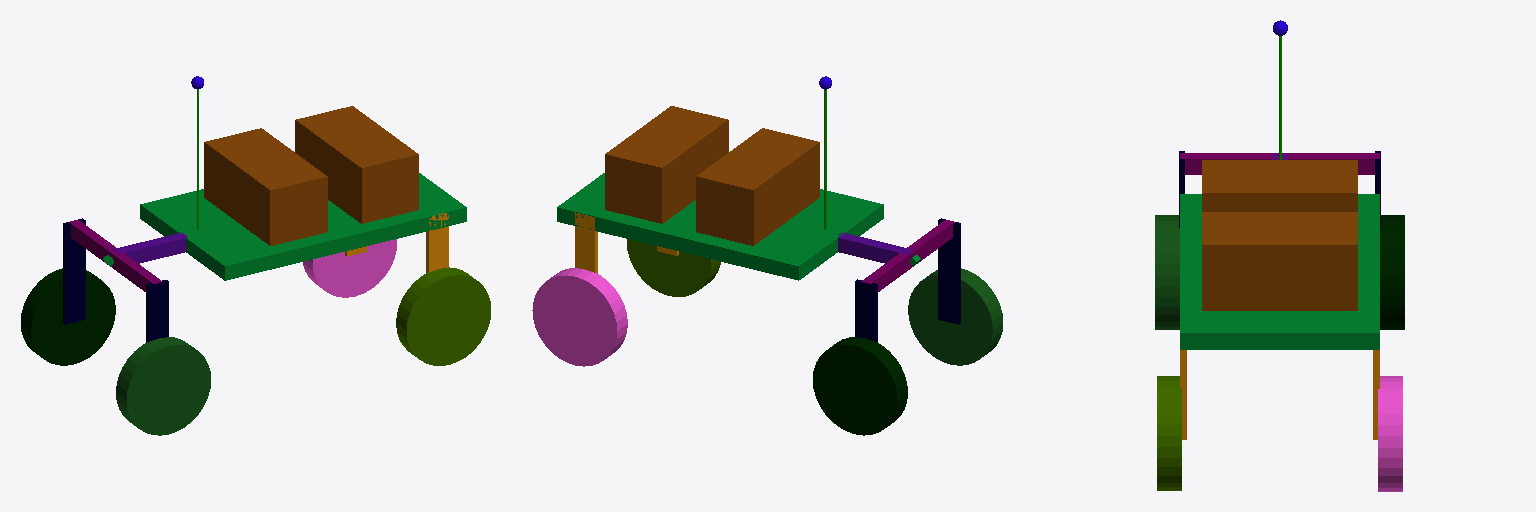
The robot description file, URDF, robot "my_robot":
<robot name="my_robot">
  <material name="black">
  <color rgba="0.0 0.0 0.0 1.0"/>
</material>
<material name="blue">
  <color rgba="0.0 0.0 0.8 1.0"/>
</material>
  <link name="fito_world"></link>
  <joint name="base_joint" type="fixed">
    <parent link="fito_world" />
    <child link="base_link" />
    <origin xyz="0 0 0" rpy="0 0 0" />
  </joint>
<!-- <link name="base_footprint"></link>

<joint name="base_footprint_joint" type="fixed">
    <parent link="fito_world" />
    <child link="base_footprint" />
    <origin xyz="0 0 0" rpy="0 0 0" />
  </joint> -->
<!-- Добавьте этот код в раздел <robot> перед закрывающим тегом </robot> -->


<!-- Добавьте этот код перед закрывающим тегом </robot> -->

<!-- Depth Camera Link and Joint -->

  <link name="base_link">
    <visual>
      <origin xyz="0 0 0" rpy="0 0 0" />
      <geometry>
        <box size="2.11 1.28 0.12" />
      </geometry>
      <material name="base_link-material">
        <color rgba="0.02732089163382382 0.5394794890033748 0.20863687013464577 1" />
      </material>
    </visual>
    <collision>
      <origin xyz="0 0 0" rpy="0 0 0" />
      <geometry>
        <box size="2.11 1.28 0.12" />
      </geometry>
    </collision>
    <inertial>
      <origin xyz="0 0 0" rpy="0 0 0" />
      <mass value="400" />
      <inertia ixx="55.1" ixy="0" ixz="0" iyy="148.9" iyz="0" izz="203" />
    </inertial>

  </link>

  <joint name="front_wheels_base_to_depth_camera" type="fixed">
  <parent link="front_wheels_base" />
  <child link="depth_camera_link" />
  <origin xyz="-0.06 0 0" rpy="1.0 3.14 -1.57" />  <!-- Adjust position as needed -->
</joint>

<link name="depth_camera_link">
  <visual>
    <origin xyz="0 0 0" rpy="0 0 0"/>
    <geometry>
      <box size="0.07 0.05 0.05"/>
    </geometry>
    <material name="blue">
      <color rgba="0.02732089163382382 0.5394794890033748 0.20863687013464577 1" />
    </material>
  </visual>
  <collision>
    <origin xyz="0 0 0" rpy="0 0 0"/>
    <geometry>
      <box size="0.07 0.05 0.05"/>
    </geometry>
  </collision>
  <inertial>
    <mass value="0.1"/>
    <inertia ixx="0.0001" ixy="0" ixz="0" iyy="0.0001" iyz="0" izz="0.0001"/>
  </inertial>
</link>

<!-- Gazebo Depth Camera Plugin -->
<gazebo reference="depth_camera_link">
  <sensor name="rs_front" type="rgbd_camera">
        <pose>0.15 0 0.4 0 -1.57 1.57</pose>
        <always_on>1</always_on>
        <update_rate>10</update_rate>
        <camera>
          <horizontal_fov>1.50098</horizontal_fov>
          <lens>
            <intrinsics>
              <!-- fx = fy = width / ( 2 * tan (hfov / 2 ) ) -->
              <fx>343.159</fx>
              <fy>343.159</fy>
              <!-- cx = ( width - 1 ) / 2 -->
              <cx>319.5</cx>
              <!-- cy = ( height - 1 ) / 2 -->
              <cy>179.5</cy>
              <s>0</s>
            </intrinsics>
          </lens>
          <distortion>
            <k1>0.0</k1>
            <k2>0.0</k2>
            <k3>0.0</k3>
            <p1>0.0</p1>
            <p2>0.0</p2>
            <center>0.5 0.5</center>
          </distortion>
          <image>
            <width>800</width>
            <height>800</height>
            <format>B8G8R8</format>
          </image>
          <clip>
            <near>0.01</near>
            <far>300</far>
          </clip>
          <depth_camera>
            <clip>
              <near>0.1</near>
              <far>10</far>
            </clip>
          </depth_camera>
          <noise>
            <type>gaussian</type>
            <mean>0</mean>
            <stddev>0.007</stddev>
          </noise>
        </camera>
        <gz_frame_id>depth_camera_link</gz_frame_id>
        <topic>rs_front</topic>
        <visualize>true</visualize>
      </sensor>
</gazebo>
  <joint name="base_link_to_wheeling_mech" type="revolute">
    <parent link="base_link" />
    <child link="wheeling_mech" />
    <origin xyz="-1.051211695797214 0 0" rpy="0 0 0" />
    <axis xyz="0 0 1"/>
    <limit effort="3000.0" lower="-0.4" upper="0.4" velocity="0.5"/>  
    <dynamics damping="0.1" friction="0.5"/>
  </joint>
  <link name="wheeling_mech">
    <visual>
      <origin xyz="-0.3 0 0" rpy="0 0 0" />
      <geometry>
        <box size="0.64 0.1 0.12" />
      </geometry>
      <material name="wheeling_mech-material">
        <color rgba="0.3515325994898463 0.07036009568874305 0.5775804404214573 1" />
      </material>
    </visual>
    <collision>
      <origin xyz="-0.3 0 0" rpy="0 0 0" />
      <geometry>
        <box size="0.64 0.1 0.12" />
      </geometry>
    </collision>

    <inertial>
      <origin xyz="-0.3 0 0" rpy="0 0 0" />
      <mass value="50" />
      <inertia ixx="0.102" ixy="0" ixz="0" iyy="1.763" iyz="0" izz="1.733" />
    </inertial>
  </link>
  <joint name="wheeling_mech_to_front_wheels_base" type="fixed">
    <parent link="wheeling_mech" />
    <child link="front_wheels_base" />
    <origin xyz="-0.5850418798406349 0 0" rpy="0 0 0" />
  </joint>
  <link name="front_wheels_base">
    <visual>
      <origin xyz="0 0 0" rpy="0 0 0" />
      <geometry>
        <box size="0.082 1.28 0.12" />
      </geometry>
      <material name="front_wheels_base-material">
        <color rgba="0.5028864580233624 0.025186859622305935 0.41254261347374327 1" />
      </material>
    </visual>
    <collision>
      <origin xyz="0 0 0" rpy="0 0 0" />
      <geometry>
        <box size="0.082 1.28 0.12" />
      </geometry>
    </collision>
    <inertial>
      <origin xyz="0 0 0" rpy="0 0 0" />
      <mass value="50" />
      <inertia ixx="6.893" ixy="0" ixz="0" iyy="0.102" iyz="0" izz="6.834" />
    </inertial>
  </link>
  <joint name="front_wheels_base_to_front_right_base" type="fixed">
    <parent link="front_wheels_base" />
    <child link="front_right_base" />
    <origin xyz="0 0.63 -0.36" rpy="0 0 0" />
  </joint>
  <link name="front_right_base">
    <visual>
      <origin xyz="0 0 0" rpy="0 0 0" />
      <geometry>
        <box size="0.175 0.04 0.83" />
      </geometry>
      <material name="front_right_base-material">
        <color rgba="0.01680737574872402 0.010960094003125918 0.21952619971859377 1" />
      </material>
    </visual>
    <collision>
      <origin xyz="0 0 0" rpy="0 0 0" />
      <geometry>
        <box size="0.175 0.04 0.83" />
      </geometry>
    </collision>
    <inertial>
      <origin xyz="0 0 0" rpy="0 0 0" />
      <mass value="15" />
      <inertia ixx="0.86" ixy="0" ixz="0" iyy="0.89" iyz="0" izz="0.04" />
    </inertial>
  </link>
  <joint name="front_right_base_to_front_right_wheel" type="continuous">
    <parent link="front_right_base" />
    <child link="front_right_wheel" />
    <origin xyz="0 0.09 -0.41" rpy="1.5707963267948963 0 0" />
    <axis xyz="0 0 1"/>
  </joint>
  <link name="front_right_wheel">
    <visual>
      <origin xyz="0 0 0" rpy="0 0 0" />
      <geometry>
        <cylinder radius="0.37" length="0.16" />
      </geometry>
      <material name="front_right_wheel-material">
        <color rgba="0.013702083043526807 0.16826940017946088 0.009134058699157796 1" />
      </material>
    </visual>
    <collision>
      <origin xyz="0 0 0" rpy="0 0 0" />
      <geometry>
        <cylinder radius="0.37" length="0.16" />
      </geometry>
    </collision>
    <inertial>
      <origin xyz="0 0 0" rpy="0 0 0" />
      <mass value="60" />
      <inertia ixx="2.18" ixy="0" ixz="0" iyy="2.18" iyz="0" izz="4.107" />
    </inertial>
  </link>
  <joint name="front_wheels_base_to_front_left_base" type="fixed">
    <parent link="front_wheels_base" />
    <child link="front_left_base" />
    <origin xyz="0 -0.63 -0.36" rpy="0 0 0" />
  </joint>
  <link name="front_left_base">
    <visual>
      <origin xyz="0 0 0" rpy="0 0 0" />
      <geometry>
        <box size="0.175 0.04 0.83" />
      </geometry>
      <material name="front_left_base-material">
        <color rgba="0.01680737574872402 0.010960094003125918 0.21952619971859377 1" />
      </material>
    </visual>
    <collision>
      <origin xyz="0 0 0" rpy="0 0 0" />
      <geometry>
        <box size="0.175 0.04 0.83" />
      </geometry>
    </collision>
    <inertial>
      <origin xyz="0 0 0" rpy="0 0 0" />
      <mass value="15" />
      <inertia ixx="0.86" ixy="0" ixz="0" iyy="0.89" iyz="0" izz="0.04" />
    </inertial>
  </link>
  <joint name="front_left_base_to_front_left_wheel" type="continuous">
    <parent link="front_left_base" />
    <child link="front_left_wheel" />
    <origin xyz="0 -0.09 -0.41" rpy="1.5707963267948963 0 0" />
    <axis xyz="0 0 1"/>
  </joint>
  <link name="front_left_wheel">
    <visual>
      <origin xyz="0 0 0" rpy="0 0 0" />
      <geometry>
        <cylinder radius="0.37" length="0.16" />
      </geometry>
      <material name="front_left_wheel-material">
        <color rgba="0.11443537381770343 0.35640014413537763 0.11953842797895521 1" />
      </material>
    </visual>
    <collision>
      <origin xyz="0 0 0" rpy="0 0 0" />
      <geometry>
        <cylinder radius="0.37" length="0.16" />
      </geometry>
    </collision>
    <inertial>
      <origin xyz="0 0 0" rpy="0 0 0" />
      <mass value="60" />
      <inertia ixx="2.18" ixy="0" ixz="0" iyy="2.18" iyz="0" izz="4.107" />
    </inertial>
  </link>
  <joint name="base_link_to_back_left_base" type="fixed">
    <parent link="base_link" />
    <child link="back_left_base" />
    <origin xyz="0.8122615873599781 -0.62 -0.3556037303067785" rpy="0 0 0" />
  </joint>
  <link name="back_left_base">
    <visual>
      <origin xyz="0 0 0" rpy="0 0 0" />
      <geometry>
        <box size="0.175 0.04 0.83" />
      </geometry>
      <material name="back_left_base-material">
        <color rgba="0.8631572134510892 0.5457244613615395 0.04817182422013895 1" />
      </material>
    </visual>
    <collision>
      <origin xyz="0 0 0" rpy="0 0 0" />
      <geometry>
        <box size="0.175 0.04 0.83" />
      </geometry>
    </collision>
    <inertial>
      <origin xyz="0 0 0" rpy="0 0 0" />
      <mass value="15" />
      <inertia ixx="0.86" ixy="0" ixz="0" iyy="0.89" iyz="0" izz="0.04" />
    </inertial>
  </link>
  <joint name="back_left_base_to_back_left_wheel" type="continuous">
    <parent link="back_left_base" />
    <child link="back_left_wheel" />
    <origin xyz="0 -0.09 -0.41" rpy="1.5707963267948963 0 0" />
    <axis xyz="0 0 1"/>
  </joint>
  <link name="back_left_wheel">
    <visual>
      <origin xyz="0 0 0" rpy="0 0 0" />
      <geometry>
        <cylinder radius="0.37" length="0.16" />
      </geometry>
      <material name="back_left_wheel-material">
        <color rgba="0.2663556047920505 0.4396571738310091 0.006048833020386069 1" />
      </material>
    </visual>
    <collision>
      <origin xyz="0 0 0" rpy="0 0 0" />
      <geometry>
        <cylinder radius="0.37" length="0.16" />
      </geometry>
    </collision>
    <inertial>
      <origin xyz="0 0 0" rpy="0 0 0" />
      <mass value="60" />
      <inertia ixx="2.18" ixy="0" ixz="0" iyy="2.18" iyz="0" izz="4.107" />
    </inertial>
  </link>
  <joint name="base_link_to_back_right_base" type="fixed">
    <parent link="base_link" />
    <child link="back_right_base" />
    <origin xyz="0.8122615873599781 0.62 -0.36" rpy="0 0 0" />
  </joint>
  <link name="back_right_base">
    <visual>
      <origin xyz="0 0 0" rpy="0 0 0" />
      <geometry>
        <box size="0.175 0.04 0.83" />
      </geometry>
      <material name="back_right_base-material">
        <color rgba="0.8631572134510892 0.5457244613615395 0.04817182422013895 1" />
      </material>
    </visual>
    <collision>
      <origin xyz="0 0 0" rpy="0 0 0" />
      <geometry>
        <box size="0.175 0.04 0.83" />
      </geometry>
    </collision>
    <inertial>
      <origin xyz="0 0 0" rpy="0 0 0" />
      <mass value="15" />
      <inertia ixx="0.86" ixy="0" ixz="0" iyy="0.89" iyz="0" izz="0.04" />
    </inertial>
  </link>
  <joint name="back_right_base_to_back_right_wheel" type="continuous">
    <parent link="back_right_base" />
    <child link="back_right_wheel" />
    <origin xyz="0 0.09 -0.41" rpy="1.5707963267948963 0 0" />
    <axis xyz="0 0 1"/>
  </joint>
  <link name="back_right_wheel">
    <visual>
      <origin xyz="0 0 0" rpy="0 0 0" />
      <geometry>
        <cylinder radius="0.37" length="0.16" />
      </geometry>
      <material name="back_right_wheel-material">
        <color rgba="0.9301108583738498 0.3515325994898463 0.8307698767709715 1" />
      </material>
    </visual>
    <collision>
      <origin xyz="0 0 0" rpy="0 0 0" />
      <geometry>
        <cylinder radius="0.37" length="0.16" />
      </geometry>
    </collision>
    <inertial>
      <origin xyz="0 0 0" rpy="0 0 0" />
      <mass value="60" />
      <inertia ixx="2.18" ixy="0" ixz="0" iyy="2.18" iyz="0" izz="4.107" />
    </inertial>
  </link>
  <joint name="base_link_to_back_load" type="fixed">
    <parent link="base_link" />
    <child link="back_load" />
    <origin xyz="0.46646768743264955 0 0.2753277941857757" rpy="0 0 0" />
  </joint>
  <link name="back_load">
    <visual>
      <origin xyz="0 0 0" rpy="0 0 0" />
      <geometry>
        <box size="0.5 1 0.5" />
      </geometry>
      <material name="back_load-material">
        <color rgba="0.5457244613615395 0.3005437944049895 0.05612849004241121 1" />
      </material>
    </visual>
    <collision>
      <origin xyz="0 0 0" rpy="0 0 0" />
      <geometry>
        <box size="0.5 1 0.5" />
      </geometry>
    </collision>
    <inertial>
      <origin xyz="0 0 0" rpy="0 0 0" />
      <mass value="50" />
      <inertia ixx="5.208" ixy="0" ixz="0" iyy="2.083" iyz="0" izz="5.208" />
    </inertial>
  </link>
  <joint name="base_link_to_front_load" type="fixed">
    <parent link="base_link" />
    <child link="front_load" />
    <origin xyz="-0.32806438331095766 0 0.2753277941857757" rpy="0 0 0" />
  </joint>
  <link name="front_load">
    <visual>
      <origin xyz="0 0 0" rpy="0 0 0" />
      <geometry>
        <box size="0.5 1 0.5" />
      </geometry>
      <material name="front_load-material">
        <color rgba="0.5457244613615395 0.3005437944049895 0.05612849004241121 1" />
      </material>
    </visual>
    <collision>
      <origin xyz="0 0 0" rpy="0 0 0" />
      <geometry>
        <box size="0.5 1 0.5" />
      </geometry>
    </collision>
    <inertial>
      <origin xyz="0 0 0" rpy="0 0 0" />
      <mass value="60" />
      <inertia ixx="6.25" ixy="0" ixz="0" iyy="2.5" iyz="0" izz="6.25" />
    </inertial>
  </link>
  <joint name="base_link_to_lidar_base" type="fixed">
    <parent link="base_link" />
    <child link="lidar_base" />
    <origin xyz="-0.92 0.002145114131801129 0.6811955493557079" rpy="0 0 0" />
  </joint>
  <link name="lidar_base">
    <visual>
      <origin xyz="0 0 0" rpy="0 0 0" />
      <geometry>
        <cylinder radius="0.01" length="1.2" />
      </geometry>
      <material name="lidar_base-material">
        <color rgba="0.06662593863608139 0.5906188409113381 0.008023192982520563 1" />
      </material>
    </visual>
    <collision>
      <origin xyz="0 0 0" rpy="0 0 0" />
      <geometry>
        <cylinder radius="0.01" length="1.2" />
      </geometry>
    </collision>
    <inertial>
      <origin xyz="0 0 0" rpy="0 0 0" />
      <mass value="1" />
      <inertia ixx="0.3333333333333333" ixy="0" ixz="0" iyy="0.5" iyz="0" izz="0.3333333333333333" />
    </inertial>
  </link>
  <joint name="lidar_base_to_lidar" type="fixed">
    <parent link="lidar_base" />
    <child link="lidar" />
    <origin xyz="0 0 0.6172694527420378" rpy="0 0 0" />
  </joint>
  <link name="lidar">
    <visual>
      <origin xyz="0 0 0" rpy="0 0 0" />
      <geometry>
        <sphere radius="0.05" />
      </geometry>
      <material name="lidar-material">
        <color rgba="0.1912016827303171 0.03954623527052923 0.85499260812105 1" />
      </material>
    </visual>
    <collision>
      <origin xyz="0 0 0" rpy="0 0 0" />
      <geometry>
        <sphere radius="0.05" />
      </geometry>
    </collision>
    <inertial>
      <origin xyz="0 0 0" rpy="0 0 0" />
      <mass value="1" />
      <inertia ixx="0.4" ixy="0" ixz="0" iyy="0.4" iyz="0" izz="0.4" />
    </inertial>
</link>
<link name="imu_link">
 <visual>
    <origin xyz="0 0 0" rpy="0 0 0"/>
    <geometry>
      <box size="0.07 0.05 0.05"/>
    </geometry>
    <material name="blue">
      <color rgba="0.02732089163382382 0.5394794890033748 0.20863687013464577 1" />
    </material>
  </visual>
  <collision>
    <origin xyz="0 0 0" rpy="0 0 0"/>
    <geometry>
      <box size="0.07 0.05 0.05"/>
    </geometry>
  </collision>
  <inertial>
    <mass value="0.1"/>
    <inertia ixx="0.0001" ixy="0" ixz="0" iyy="0.0001" iyz="0" izz="0.0001"/>
  </inertial>
</link>
<joint name="imu_joint" type="fixed">
  <parent link="base_link"/>
  <child link="imu_link"/>
  <origin xyz="0.1 0 0.1" rpy="0 0 0"/> <!-- Укажите реальное положение IMU -->
</joint>
      
      <gazebo reference="imu_link">
    <sensor name="imu" type="imu">
      <gz_frame_id>imu_link</gz_frame_id>
      <update_rate>10</update_rate>
    <always_on>1</always_on>
    <update_rate>1</update_rate>
    <visualize>true</visualize>
    <topic>imu</topic>
</sensor>

  </gazebo>
  <gazebo reference="lidar">
    <sensor name="gpu_lidar" type="gpu_lidar">
      <update_rate>10</update_rate>
      <topic>scan</topic>
      <gz_frame_id>lidar</gz_frame_id>
      <lidar>
        <scan>
          <horizontal>
            <samples>720</samples>
            <!--(max_angle-min_angle)/samples * resolution -->
            <resolution>1</resolution>
            <min_angle>-3.14156</min_angle>
            <max_angle>3.14156</max_angle>
          </horizontal>
          <!-- Dirty hack for fake lidar detections with ogre 1 rendering in VM -->
          <!-- <vertical>
              <samples>3</samples>
              <min_angle>-0.001</min_angle>
              <max_angle>0.001</max_angle>
          </vertical> -->
        </scan>
        <range>
          <min>0.05</min>
          <max>10.0</max>
          <resolution>0.01</resolution>
        </range>
        <noise>
            <type>gaussian</type>
            <mean>0.0</mean>
            <stddev>0.01</stddev>
        </noise>
        <frame_id>lidar</frame_id>
      </lidar>
      <always_on>1</always_on>
      <visualize>true</visualize>
    </sensor>
  </gazebo>

    <ros2_control name="GazeboSystem" type="system">
      <hardware>
        <plugin>gz_ros2_control/GazeboSimSystem</plugin>
      </hardware>


      <joint name="back_right_base_to_back_right_wheel">
        <command_interface name="velocity">
          <param name="min">-10</param>
          <param name="max">10</param>
        </command_interface>
        <state_interface name="position"/>
        <state_interface name="velocity"/>
      </joint>
     
      <joint name="back_left_base_to_back_left_wheel">
        <command_interface name="velocity">
          <param name="min">-10</param>
          <param name="max">10</param>
        </command_interface>
        <state_interface name="position"/>
        <state_interface name="velocity"/>
      </joint>

      <joint name="front_right_base_to_front_right_wheel">
        <command_interface name="velocity">
          <param name="min">-10</param>
          <param name="max">10</param>
        </command_interface>
        <state_interface name="position"/>
        <state_interface name="velocity"/>
      </joint>
     
      <joint name="front_left_base_to_front_left_wheel">
        <command_interface name="velocity">
          <param name="min">-10</param>
          <param name="max">10</param>
        </command_interface>
        <state_interface name="position"/>
        <state_interface name="velocity"/>
      </joint>
      
      

      <!-- Steering mechanisms (position control) -->
      <joint name="base_link_to_wheeling_mech">
        <command_interface name="position">
          <param name="min">-0.4</param>
          <param name="max">0.4</param>
        </command_interface>
        <state_interface name="position"/>
        <state_interface name="velocity"/>
      </joint>
      
      
    </ros2_control>
  

 
    <gazebo>
      <plugin name="gz_ros2_control::GazeboSimROS2ControlPlugin" filename="libgz_ros2_control-system.so">
        <parameters>[local-path]/ros2_ws/src/my_robot/config/new_controllers.yaml</parameters>
      </plugin>
   
    </gazebo>
    
 
    <gazebo reference="base_link">
      <material>Gazebo/Grey</material>
    </gazebo>
 
</robot>

--- Facts derived from the render (not from the file) ---
Views: 3 orthographic renders of the robot side by side, from view 1: azimuth 30°, elevation 25°; view 2: azimuth 150°, elevation 25°; view 3: azimuth 270°, elevation 25°.
Model my_robot with 18 links and 17 joints (1 revolute, 4 continuous, 12 fixed), rooted at fito_world, posed all joints at 0.
Visible links, largest first — view 1: base_link, front_load, back_load, back_left_wheel, front_left_wheel, front_right_wheel, back_right_wheel, front_right_base, front_wheels_base, front_left_base, wheeling_mech, back_left_base; view 2: base_link, front_load, back_load, front_right_wheel, back_right_wheel, front_left_wheel, back_left_wheel, front_left_base, front_wheels_base, front_right_base, wheeling_mech, back_right_base; view 3: back_load, base_link, front_load, back_right_wheel, front_right_wheel, front_left_wheel, back_left_wheel, front_wheels_base, back_left_base, back_right_base.
Boxes of the visible links, x1=… form: base_link: x1=140, y1=173, x2=466, y2=280; front_load: x1=204, y1=128, x2=327, y2=245; back_load: x1=295, y1=106, x2=418, y2=223; back_left_wheel: x1=396, y1=267, x2=490, y2=365; front_left_wheel: x1=116, y1=337, x2=210, y2=435; front_right_wheel: x1=21, y1=268, x2=115, y2=365; back_right_wheel: x1=303, y1=239, x2=396, y2=297; front_right_base: x1=63, y1=218, x2=85, y2=324; front_wheels_base: x1=69, y1=220, x2=162, y2=291; front_left_base: x1=146, y1=280, x2=168, y2=342; wheeling_mech: x1=109, y1=232, x2=187, y2=263; back_left_base: x1=426, y1=213, x2=448, y2=272; base_link: x1=557, y1=173, x2=883, y2=280; front_load: x1=696, y1=128, x2=819, y2=245; back_load: x1=605, y1=106, x2=728, y2=223; front_right_wheel: x1=813, y1=337, x2=907, y2=435; back_right_wheel: x1=532, y1=268, x2=627, y2=366; front_left_wheel: x1=908, y1=268, x2=1002, y2=365; back_left_wheel: x1=627, y1=239, x2=720, y2=296; front_left_base: x1=938, y1=218, x2=960, y2=324; front_wheels_base: x1=861, y1=220, x2=954, y2=291; front_right_base: x1=855, y1=279, x2=877, y2=342; wheeling_mech: x1=838, y1=232, x2=913, y2=263; back_right_base: x1=575, y1=212, x2=597, y2=273; back_load: x1=1202, y1=212, x2=1357, y2=310; base_link: x1=1180, y1=194, x2=1379, y2=349; front_load: x1=1202, y1=160, x2=1357, y2=211; back_right_wheel: x1=1378, y1=376, x2=1402, y2=491; front_right_wheel: x1=1380, y1=215, x2=1404, y2=329; front_left_wheel: x1=1155, y1=215, x2=1179, y2=329; back_left_wheel: x1=1157, y1=376, x2=1181, y2=490; front_wheels_base: x1=1180, y1=153, x2=1379, y2=174; back_left_base: x1=1180, y1=350, x2=1186, y2=439; back_right_base: x1=1373, y1=350, x2=1379, y2=439.
Bounding box of the posed robot: 3.19 × 1.6 × 2.49 m (x, y, z).
Geometry: primitives only (box / cylinder / sphere), no mesh files.
